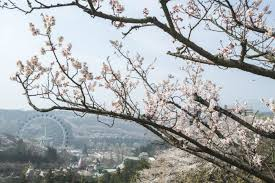flower: (41, 36, 230, 143), (176, 1, 268, 60)
tree: (23, 1, 271, 183)
